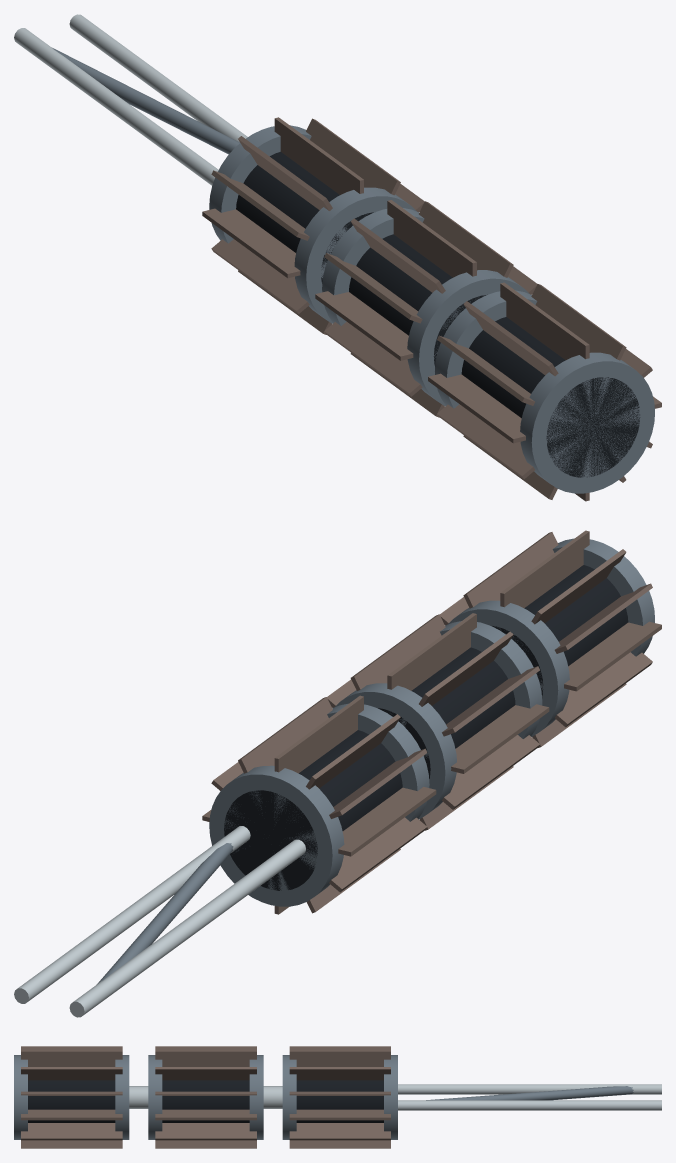
Rendered from voyager_rtg_boom.deployment.glb.
The picture shows the model from 3 angles, top to bottom: view 1: azimuth 30°, elevation 25°; view 2: azimuth 150°, elevation 25°; view 3: azimuth 270°, elevation 25°; orthographic projection. The views are drawn at different scales.
Visible parts, largest first — view 1: voyager_rtg_boom.deployment.rtg_03.mesh_Machined_steel, voyager_rtg_boom.deployment.rtg_03.mesh_Heat-stained_alloy, voyager_rtg_boom.deployment.rtg_01.mesh_Heat-stained_alloy, voyager_rtg_boom.deployment.rtg_02.mesh_Heat-stained_alloy, voyager_rtg_boom.deployment.rtg_03.mesh_Carbon_composite, voyager_rtg_boom.deployment.mesh_Satin_aluminum, voyager_rtg_boom.deployment.rtg_01.mesh_Machined_steel, voyager_rtg_boom.deployment.rtg_02.mesh_Machined_steel, voyager_rtg_boom.deployment.rtg_02.mesh_Carbon_composite, voyager_rtg_boom.deployment.rtg_01.mesh_Carbon_composite, voyager_rtg_boom.deployment.mesh_Machined_steel; view 2: voyager_rtg_boom.deployment.rtg_01.mesh_Heat-stained_alloy, voyager_rtg_boom.deployment.rtg_03.mesh_Heat-stained_alloy, voyager_rtg_boom.deployment.rtg_02.mesh_Heat-stained_alloy, voyager_rtg_boom.deployment.rtg_01.mesh_Machined_steel, voyager_rtg_boom.deployment.rtg_01.mesh_Carbon_composite, voyager_rtg_boom.deployment.mesh_Satin_aluminum, voyager_rtg_boom.deployment.rtg_03.mesh_Machined_steel, voyager_rtg_boom.deployment.rtg_02.mesh_Machined_steel, voyager_rtg_boom.deployment.rtg_02.mesh_Carbon_composite, voyager_rtg_boom.deployment.rtg_03.mesh_Carbon_composite, voyager_rtg_boom.deployment.mesh_Machined_steel; view 3: voyager_rtg_boom.deployment.rtg_02.mesh_Heat-stained_alloy, voyager_rtg_boom.deployment.rtg_03.mesh_Heat-stained_alloy, voyager_rtg_boom.deployment.rtg_01.mesh_Heat-stained_alloy, voyager_rtg_boom.deployment.mesh_Satin_aluminum, voyager_rtg_boom.deployment.rtg_01.mesh_Carbon_composite, voyager_rtg_boom.deployment.rtg_02.mesh_Carbon_composite, voyager_rtg_boom.deployment.rtg_03.mesh_Carbon_composite, voyager_rtg_boom.deployment.rtg_02.mesh_Machined_steel, voyager_rtg_boom.deployment.rtg_01.mesh_Machined_steel, voyager_rtg_boom.deployment.rtg_03.mesh_Machined_steel, voyager_rtg_boom.deployment.mesh_Machined_steel.
Part boxes in pixels (x1,y1,x2,y2): voyager_rtg_boom.deployment.rtg_03.mesh_Machined_steel: (435, 290, 654, 493); voyager_rtg_boom.deployment.rtg_03.mesh_Heat-stained_alloy: (428, 282, 661, 501); voyager_rtg_boom.deployment.rtg_01.mesh_Heat-stained_alloy: (202, 117, 424, 334); voyager_rtg_boom.deployment.rtg_02.mesh_Heat-stained_alloy: (315, 200, 537, 417); voyager_rtg_boom.deployment.rtg_03.mesh_Carbon_composite: (461, 317, 640, 477); voyager_rtg_boom.deployment.mesh_Satin_aluminum: (14, 14, 247, 185); voyager_rtg_boom.deployment.rtg_01.mesh_Machined_steel: (209, 125, 416, 323); voyager_rtg_boom.deployment.rtg_02.mesh_Machined_steel: (322, 208, 529, 406); voyager_rtg_boom.deployment.rtg_02.mesh_Carbon_composite: (349, 234, 487, 366); voyager_rtg_boom.deployment.rtg_01.mesh_Carbon_composite: (236, 151, 373, 283); voyager_rtg_boom.deployment.mesh_Machined_steel: (52, 48, 239, 154); voyager_rtg_boom.deployment.rtg_01.mesh_Heat-stained_alloy: (202, 695, 436, 914); voyager_rtg_boom.deployment.rtg_03.mesh_Heat-stained_alloy: (439, 530, 661, 747); voyager_rtg_boom.deployment.rtg_02.mesh_Heat-stained_alloy: (327, 613, 549, 830); voyager_rtg_boom.deployment.rtg_01.mesh_Machined_steel: (209, 703, 429, 906); voyager_rtg_boom.deployment.rtg_01.mesh_Carbon_composite: (224, 730, 402, 890); voyager_rtg_boom.deployment.mesh_Satin_aluminum: (14, 826, 305, 1017); voyager_rtg_boom.deployment.rtg_03.mesh_Machined_steel: (447, 538, 654, 736); voyager_rtg_boom.deployment.rtg_02.mesh_Machined_steel: (335, 621, 542, 819); voyager_rtg_boom.deployment.rtg_02.mesh_Carbon_composite: (377, 647, 515, 778); voyager_rtg_boom.deployment.rtg_03.mesh_Carbon_composite: (490, 565, 628, 695); voyager_rtg_boom.deployment.mesh_Machined_steel: (96, 843, 233, 984); voyager_rtg_boom.deployment.rtg_02.mesh_Heat-stained_alloy: (155, 1046, 256, 1148); voyager_rtg_boom.deployment.rtg_03.mesh_Heat-stained_alloy: (21, 1046, 122, 1148); voyager_rtg_boom.deployment.rtg_01.mesh_Heat-stained_alloy: (289, 1046, 390, 1148); voyager_rtg_boom.deployment.mesh_Satin_aluminum: (129, 1084, 661, 1110); voyager_rtg_boom.deployment.rtg_01.mesh_Carbon_composite: (296, 1080, 383, 1122); voyager_rtg_boom.deployment.rtg_02.mesh_Carbon_composite: (162, 1080, 249, 1122); voyager_rtg_boom.deployment.rtg_03.mesh_Carbon_composite: (28, 1080, 115, 1122); voyager_rtg_boom.deployment.rtg_02.mesh_Machined_steel: (148, 1055, 263, 1139); voyager_rtg_boom.deployment.rtg_01.mesh_Machined_steel: (282, 1055, 397, 1139); voyager_rtg_boom.deployment.rtg_03.mesh_Machined_steel: (14, 1055, 129, 1139); voyager_rtg_boom.deployment.mesh_Machined_steel: (426, 1086, 633, 1100).
Bounding box in the file's own units: 0.4338 × 0.4338 × 2.75.
